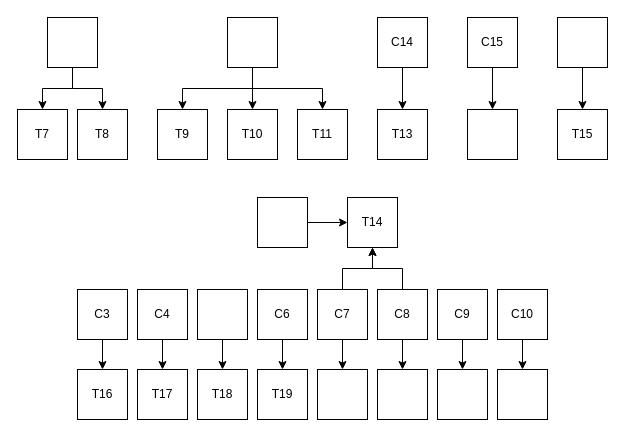
The diagram is 625 pixels wide and 437 high, and some of its shapes have lost their labels. Each missing label, with the box of its shape:
C12: (46, 16, 98, 68)
C13: (226, 16, 278, 68)
C17: (256, 196, 308, 248)
C18: (556, 16, 608, 68)
C5: (196, 288, 248, 340)
T20: (316, 368, 368, 420)
T21: (376, 368, 428, 420)
T22: (436, 368, 488, 420)
T23: (496, 368, 548, 420)
T6: (466, 108, 518, 160)
